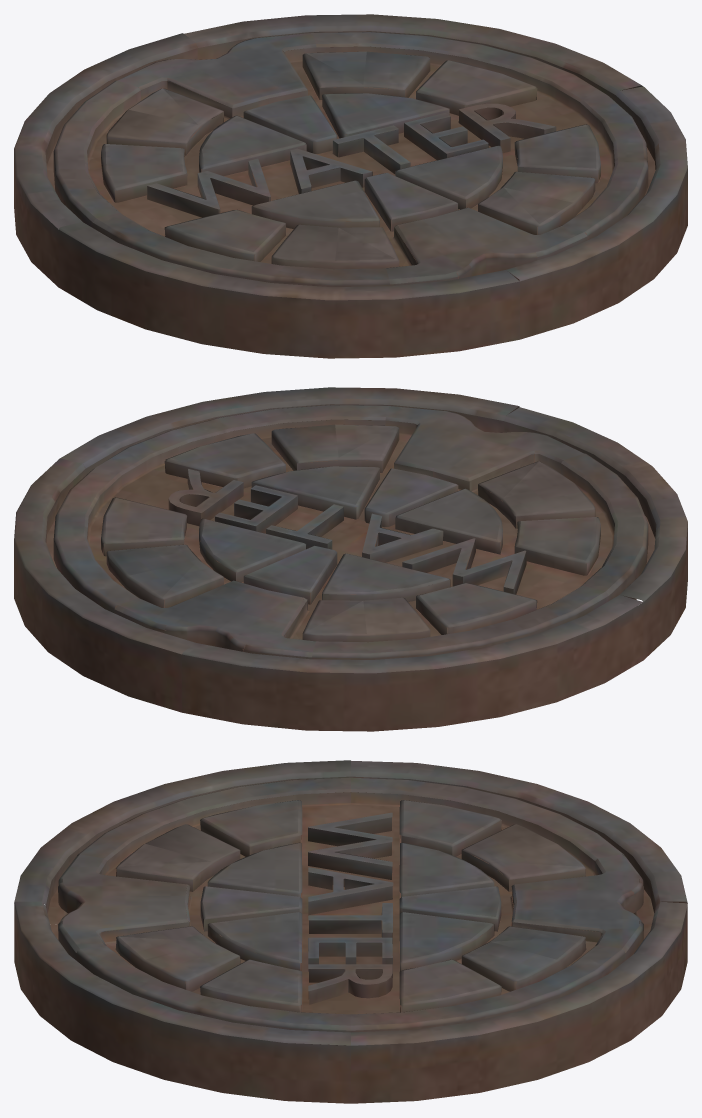
Rendered from manhole.glb.
The picture shows the model from 3 angles, top to bottom: view 1: azimuth 30°, elevation 25°; view 2: azimuth 150°, elevation 25°; view 3: azimuth 270°, elevation 25°; orthographic projection.
Parts seen in each view (by area): view 1: manhole; view 2: manhole; view 3: manhole.
Boxes of the visible parts, x1,y1,x2,y2 form: manhole: [14, 14, 687, 358]; manhole: [14, 387, 687, 731]; manhole: [14, 760, 687, 1103].
Bounding box in the file's own units: 0.6912 × 0.068 × 0.6912.
Materials: 1 (1 with a texture image).
